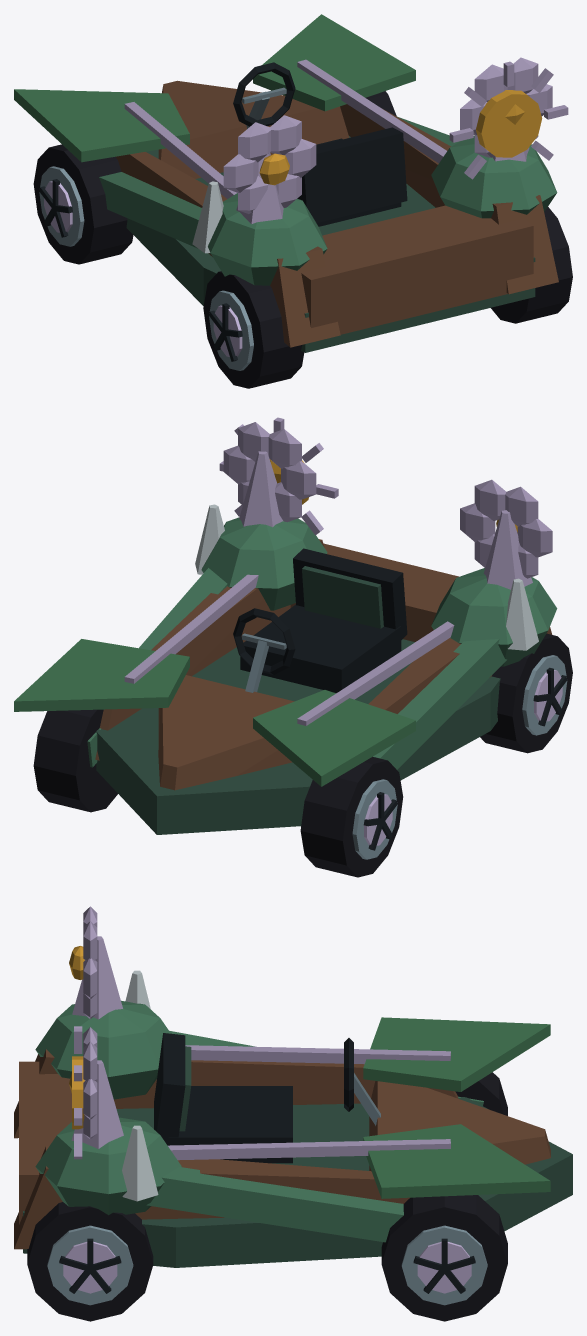
The model's file is kart.glb.
The picture shows the model from 3 angles, top to bottom: view 1: azimuth 30°, elevation 25°; view 2: azimuth 150°, elevation 25°; view 3: azimuth 270°, elevation 25°; orthographic projection. The views are drawn at different scales.
Visible parts, largest first — view 1: identity-nature-nature-root-cradle-and-leaf-bow, identity-nature-driver-cockpit, identity-nature-motif-flowers, wheel-front-left, wheel-rear-left, identity-nature-motif-sun, wheel-rear-right, identity-nature-motif-crystals; view 2: identity-nature-nature-root-cradle-and-leaf-bow, identity-nature-driver-cockpit, identity-nature-motif-flowers, wheel-front-left, wheel-rear-left, identity-nature-motif-crystals, wheel-front-right, identity-nature-motif-sun; view 3: identity-nature-nature-root-cradle-and-leaf-bow, wheel-front-right, wheel-rear-right, identity-nature-driver-cockpit, identity-nature-motif-crystals, identity-nature-motif-flowers, identity-nature-motif-sun, wheel-front-left.
Boxes of the visible parts, box(x1,y1,x2,y2) form: identity-nature-nature-root-cradle-and-leaf-bow: box(14, 14, 558, 352); identity-nature-driver-cockpit: box(233, 62, 407, 226); identity-nature-motif-flowers: box(223, 57, 552, 213); wheel-front-left: box(33, 144, 133, 264); wheel-rear-left: box(203, 271, 304, 388); identity-nature-motif-sun: box(449, 61, 568, 179); wheel-rear-right: box(491, 207, 572, 323); identity-nature-motif-crystals: box(192, 147, 529, 253); identity-nature-nature-root-cradle-and-leaf-bow: box(14, 517, 557, 834); identity-nature-driver-cockpit: box(233, 548, 407, 692); identity-nature-motif-flowers: box(223, 422, 552, 578); wheel-front-left: box(300, 756, 403, 877); wheel-rear-left: box(480, 633, 572, 753); identity-nature-motif-crystals: box(195, 451, 538, 650); wheel-front-right: box(33, 709, 117, 812); identity-nature-motif-sun: box(219, 417, 338, 535); identity-nature-nature-root-cradle-and-leaf-bow: box(14, 1000, 572, 1267); wheel-front-right: box(381, 1195, 507, 1321); wheel-rear-right: box(27, 1202, 153, 1321); identity-nature-driver-cockpit: box(154, 1033, 380, 1163); identity-nature-motif-crystals: box(71, 936, 158, 1201); identity-nature-motif-flowers: box(69, 906, 97, 1139); identity-nature-motif-sun: box(72, 1026, 84, 1159); wheel-front-left: box(455, 1072, 507, 1115).
Bounding box in the file's own units: 2.02 × 1.47 × 2.75.
